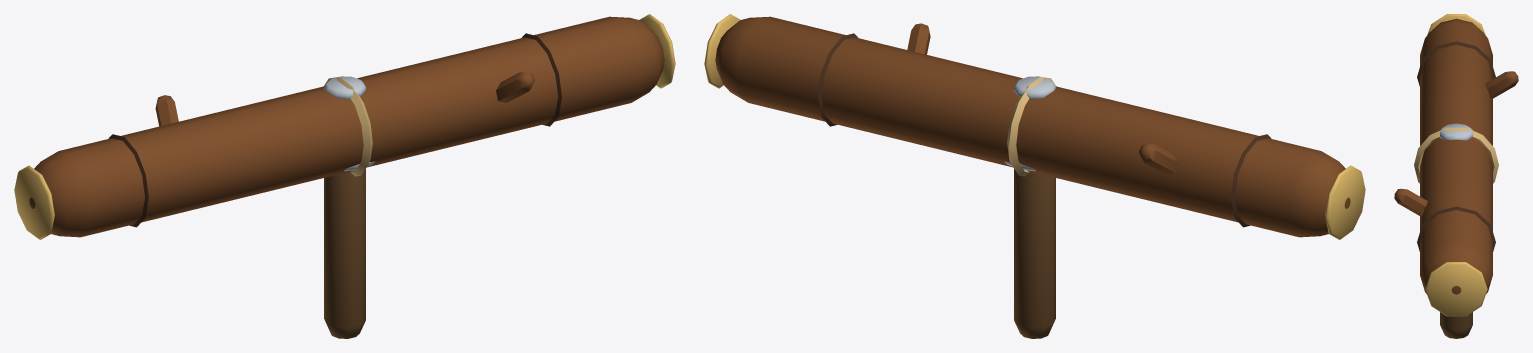
File: H13_SpinningLog.fbx
The picture shows the model from 3 angles, left to right: view 1: azimuth 30°, elevation 25°; view 2: azimuth 150°, elevation 25°; view 3: azimuth 270°, elevation 25°; orthographic projection. The views are drawn at different scales.
Parts seen in each view (by area): view 1: Spinner, Static; view 2: Spinner, Static; view 3: Spinner, Static.
Part boxes in pixels (<box>): Spinner: <box>14,14,675,239</box>; Static: <box>324,161,375,338</box>; Spinner: <box>704,14,1365,239</box>; Static: <box>1004,161,1055,338</box>; Spinner: <box>1394,14,1518,316</box>; Static: <box>1440,312,1472,338</box>.
Bounding box in the file's own units: 6.84 × 2.68 × 1.43.
